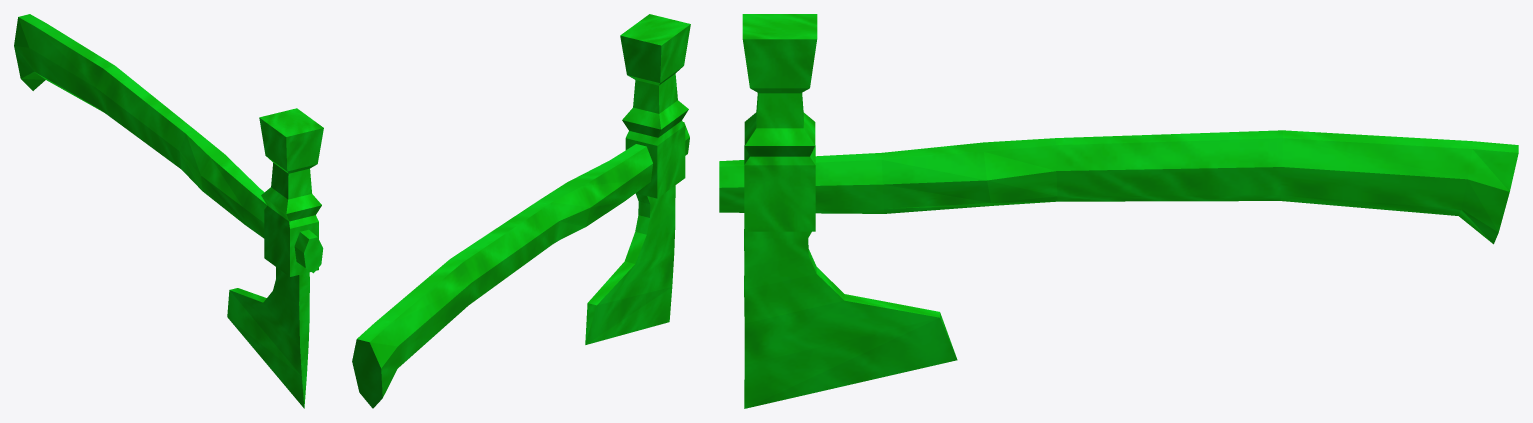
The model's file is KRN_NW_Tomahawk_St.obj.
3 views of the same model, side by side, from view 1: azimuth 30°, elevation 25°; view 2: azimuth 150°, elevation 25°; view 3: azimuth 270°, elevation 25° (orthographic). The views are drawn at different scales.
Visible parts, largest first — view 1: KRN_NW_Tomahawk_St; view 2: KRN_NW_Tomahawk_St; view 3: KRN_NW_Tomahawk_St.
Part boxes in pixels (<box>): KRN_NW_Tomahawk_St: <box>14,14,323,408</box>; KRN_NW_Tomahawk_St: <box>352,14,690,408</box>; KRN_NW_Tomahawk_St: <box>719,14,1518,408</box>.
Size of the model in its own units: 4.22 by 29.51 by 55.94.
Materials: 1 (1 with a texture image).
